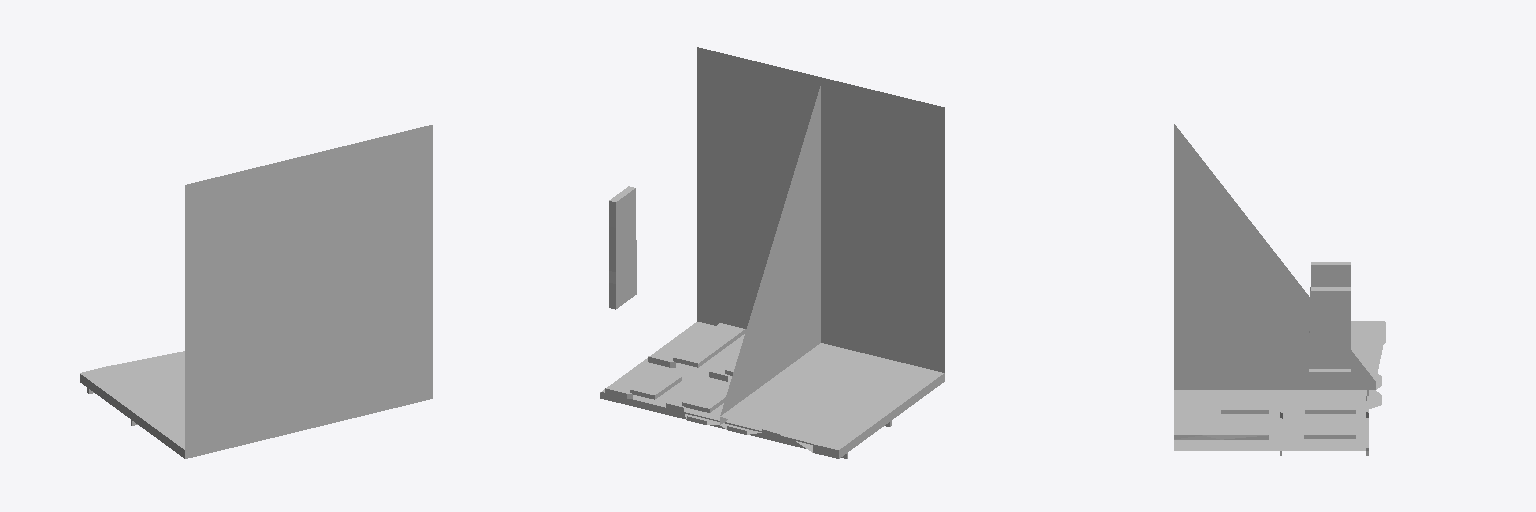
The model's file is Dom Gąski jedna druga.obj.
3 views of the same model, side by side, from view 1: azimuth 30°, elevation 25°; view 2: azimuth 150°, elevation 25°; view 3: azimuth 270°, elevation 25° (orthographic).
Parts seen in each view (by area): view 1: dom_gąski_w_radomiu.2; view 2: dom_gąski_w_radomiu.2; view 3: dom_gąski_w_radomiu.2.
Part boxes in pixels (left/top/right/bottom): dom_gąski_w_radomiu.2: left=80, top=125, right=432, bottom=458; dom_gąski_w_radomiu.2: left=600, top=47, right=944, bottom=458; dom_gąski_w_radomiu.2: left=1174, top=124, right=1385, bottom=455.
Size of the model in its own units: 0.068 by 0.0736 by 0.0504.